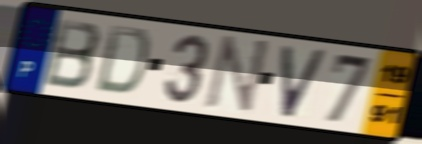3: (160, 32, 210, 107)
7: (327, 50, 372, 125)
B: (41, 16, 104, 92)
D: (92, 22, 152, 98)
N: (201, 34, 273, 118)
V: (279, 43, 330, 121)
